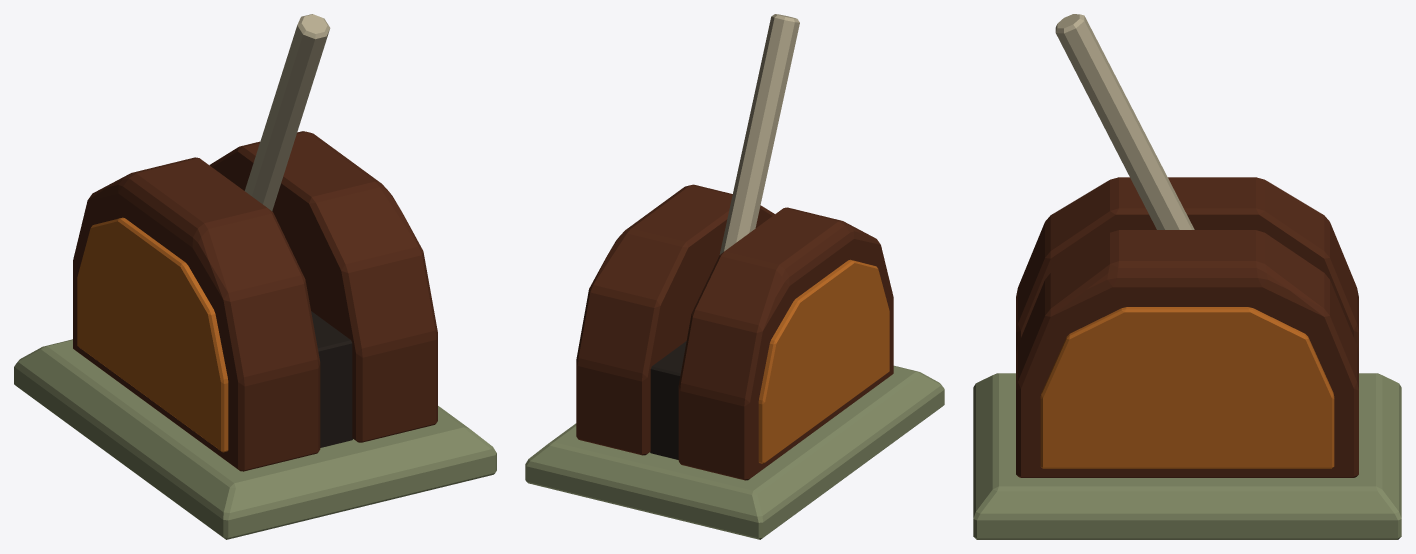
The model's file is OreLeverChunky.fbx.
The picture shows the model from 3 angles, left to right: view 1: azimuth 30°, elevation 25°; view 2: azimuth 150°, elevation 25°; view 3: azimuth 270°, elevation 25°; orthographic projection. The views are drawn at different scales.
Visible parts, largest first — view 1: Body, Base, Panel, Arm, Slot; view 2: Body, Base, Panel, Arm, Slot; view 3: Body, Panel, Base, Arm.
Boxes of the visible parts, x1,y1,x2,y2 form: Body: (73,131,437,471); Base: (14,339,496,539); Panel: (77,217,228,452); Arm: (245,14,330,211); Slot: (311,311,352,447); Body: (576,184,893,480); Base: (525,365,944,539); Panel: (758,259,889,463); Arm: (719,14,799,254); Slot: (650,341,686,459); Body: (1016,177,1358,477); Panel: (1040,307,1334,468); Base: (973,373,1401,539); Arm: (1055,14,1194,229).
Size of the model in its own units: 2.6 by 4.13 by 3.5.
